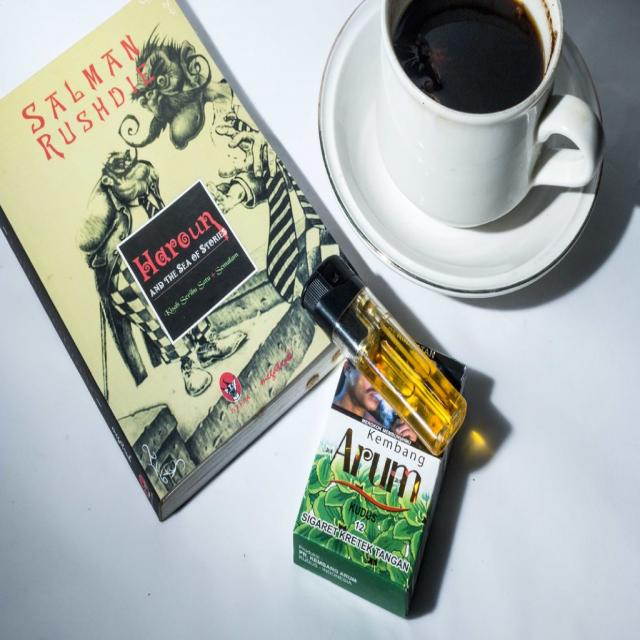Coffee: (358, 6, 588, 222)
Tea: (388, 0, 553, 116)
